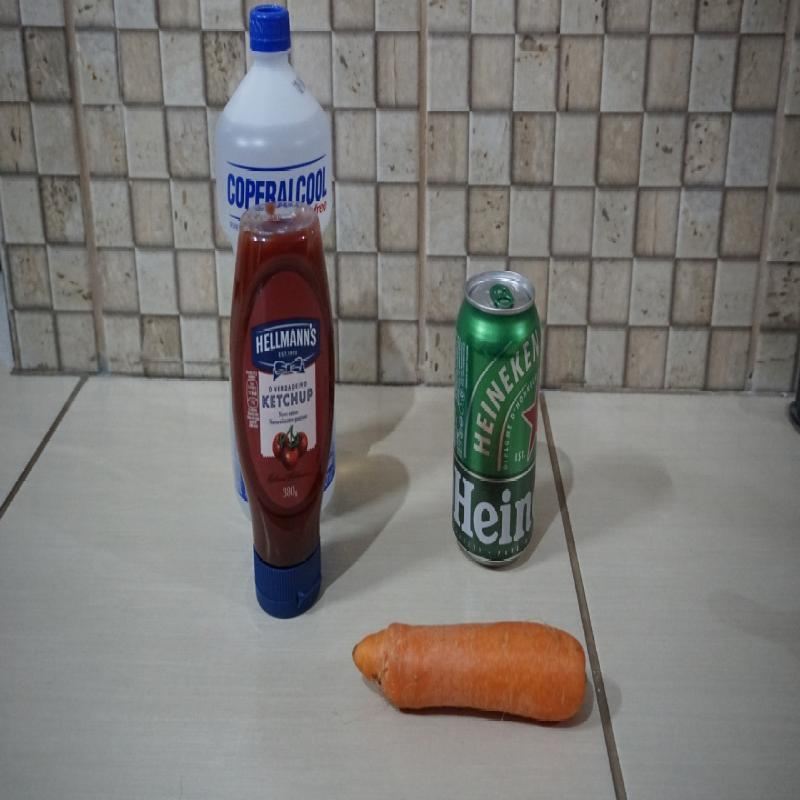Alcohol Bottle: (218, 0, 330, 209)
Beer can: (452, 270, 542, 566)
Carrot: (354, 621, 589, 724)
Ketchup: (229, 202, 337, 620)
